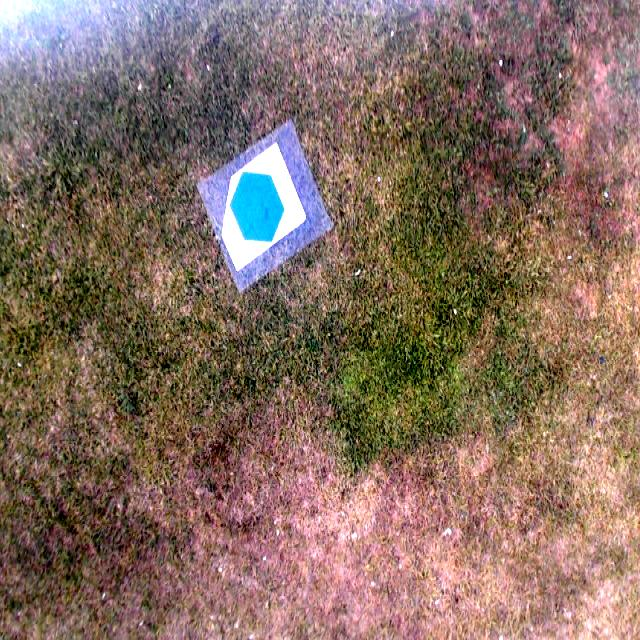blue_hexagon: (228, 171, 286, 244)
